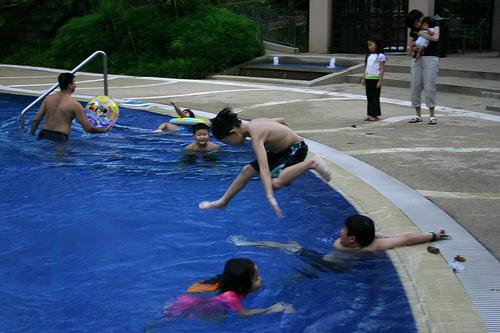swimmer: (211, 107, 328, 224), (164, 255, 288, 320), (31, 72, 111, 146), (312, 210, 378, 276), (181, 122, 220, 158)
